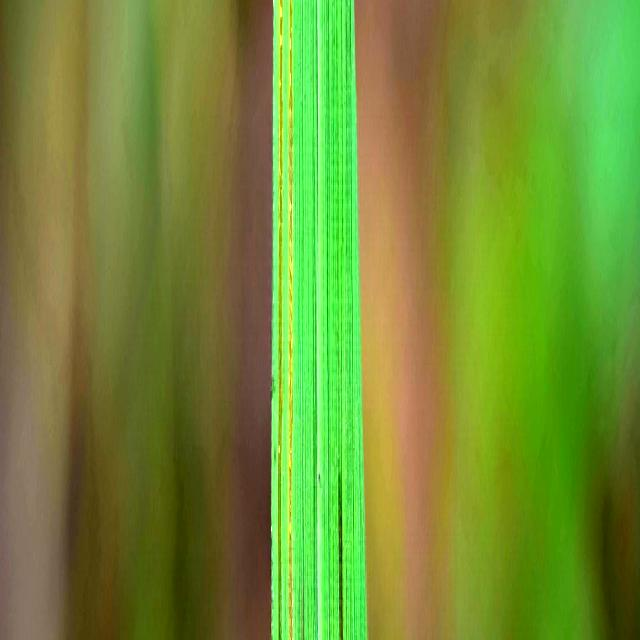BLS: (278, 0, 283, 640), (289, 0, 293, 640), (339, 488, 343, 640), (303, 602, 304, 640)
